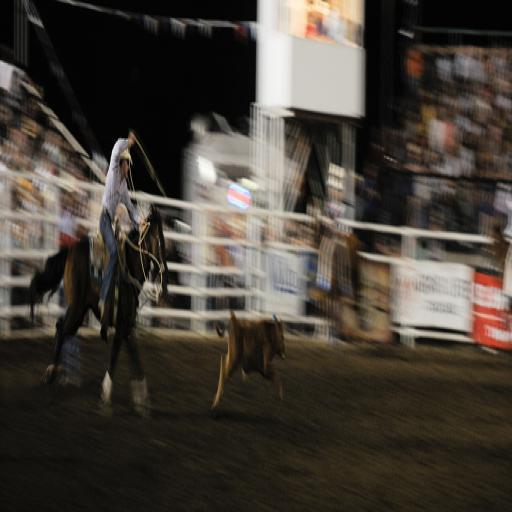Horse: (27, 197, 170, 415)
